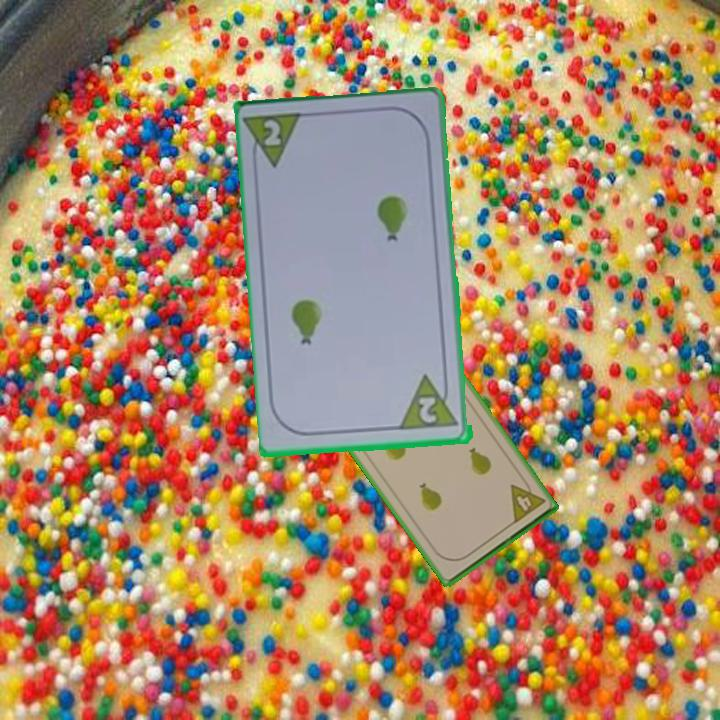2p: (398, 371, 462, 433), (260, 116, 285, 150)
4p: (506, 474, 548, 527)
